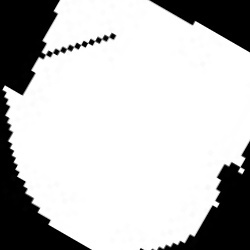spot: (2, 1, 248, 249)
